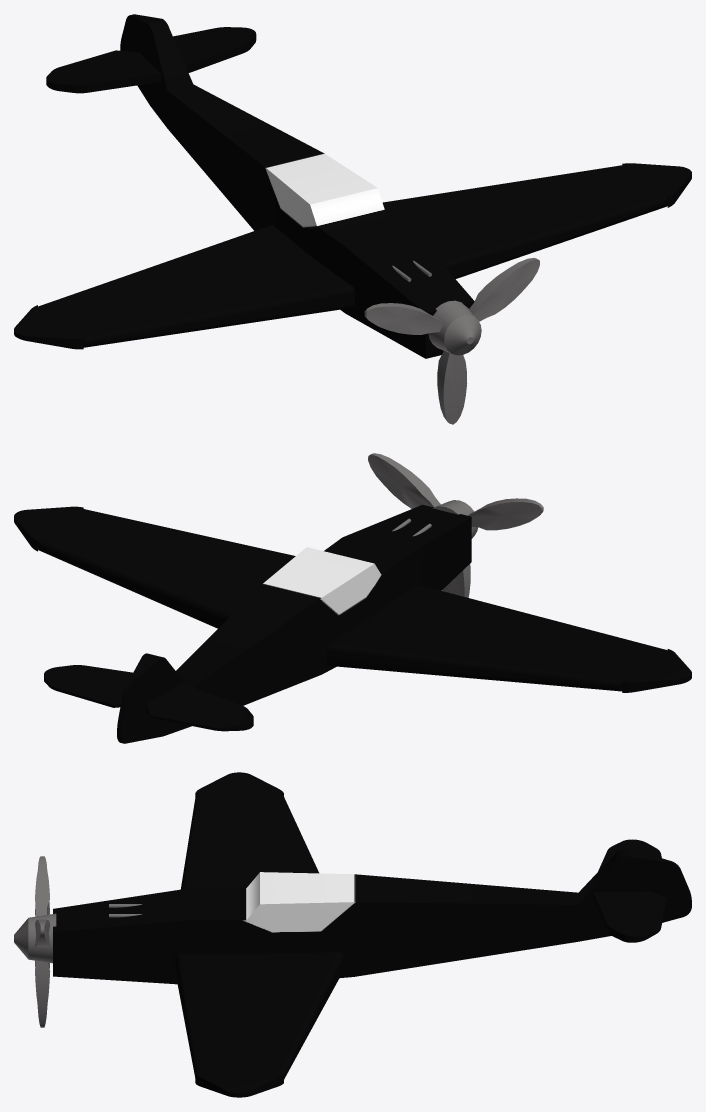
File: Messerchmitt Bf 109.fbx
3 renders of one model, top to bottom at view 1: azimuth 30°, elevation 25°; view 2: azimuth 150°, elevation 25°; view 3: azimuth 270°, elevation 25°, orthographic. The views are drawn at different scales.
Visible parts, largest first — view 1: Body, Right_Wing, Left_Wing, Right_Back_Wing, Left_Back_Wing, pCylinder4, Propeller, pCylinder3, pCylinder2; view 2: Body, Right_Wing, Left_Wing, Right_Back_Wing, Left_Back_Wing, pCylinder4, pCylinder3, pCylinder2, Propeller; view 3: Body, Left_Wing, Right_Wing, Left_Back_Wing, Propeller, pCylinder2, pCylinder3, Right_Back_Wing.
Boxes of the visible parts, x1=… form: Body: x1=120, y1=14, x2=474, y2=358; Right_Wing: x1=14, y1=225, x2=354, y2=349; Left_Wing: x1=382, y1=163, x2=691, y2=278; Right_Back_Wing: x1=46, y1=50, x2=161, y2=93; Left_Back_Wing: x1=173, y1=27, x2=256, y2=72; pCylinder4: x1=469, y1=257, x2=539, y2=321; Propeller: x1=428, y1=300, x2=481, y2=355; pCylinder3: x1=364, y1=303, x2=443, y2=334; pCylinder2: x1=437, y1=350, x2=467, y2=424; Body: x1=117, y1=504, x2=471, y2=743; Right_Wing: x1=327, y1=584, x2=691, y2=692; Left_Wing: x1=14, y1=506, x2=295, y2=628; Right_Back_Wing: x1=145, y1=683, x2=253, y2=731; Left_Back_Wing: x1=44, y1=665, x2=132, y2=707; pCylinder4: x1=368, y1=453, x2=440, y2=508; pCylinder3: x1=468, y1=498, x2=543, y2=530; pCylinder2: x1=442, y1=564, x2=470, y2=597; Propeller: x1=432, y1=500, x2=477, y2=538; Body: x1=53, y1=848, x2=691, y2=984; Left_Wing: x1=175, y1=952, x2=343, y2=1097; Right_Wing: x1=180, y1=772, x2=318, y2=889; Left_Back_Wing: x1=593, y1=891, x2=666, y2=942; Propeller: x1=14, y1=913, x2=56, y2=963; pCylinder2: x1=35, y1=960, x2=49, y2=1027; pCylinder3: x1=35, y1=856, x2=49, y2=916; Right_Back_Wing: x1=598, y1=839, x2=661, y2=871.
Bounding box in the file's own units: 976 × 252 × 874.
2 materials, 1 textured.
